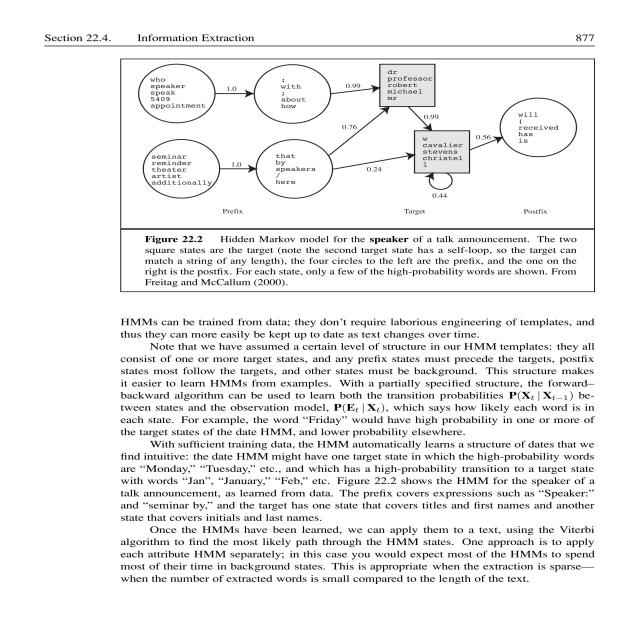diagram: (104, 49, 640, 302)
